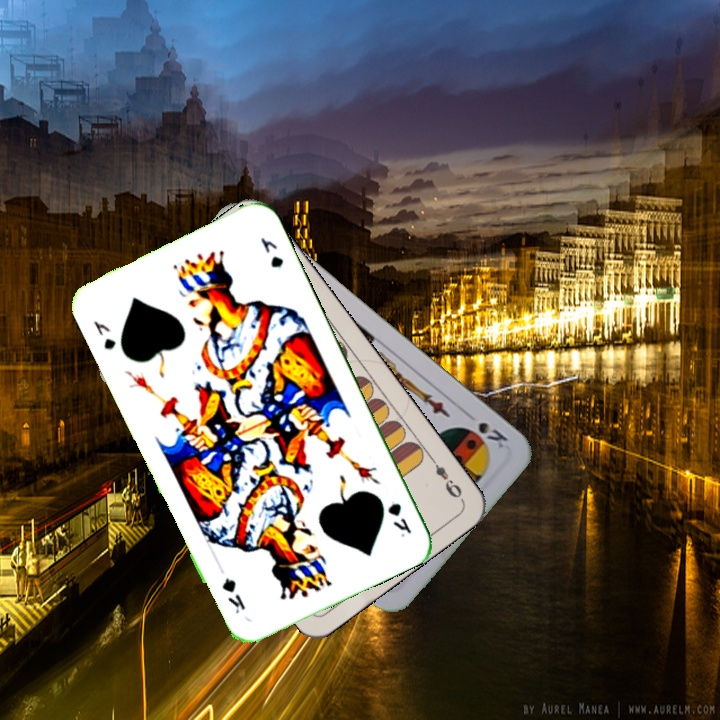E9: (425, 452, 465, 501)
GK: (383, 497, 415, 540), (89, 316, 119, 352)
SK: (474, 418, 511, 451)
